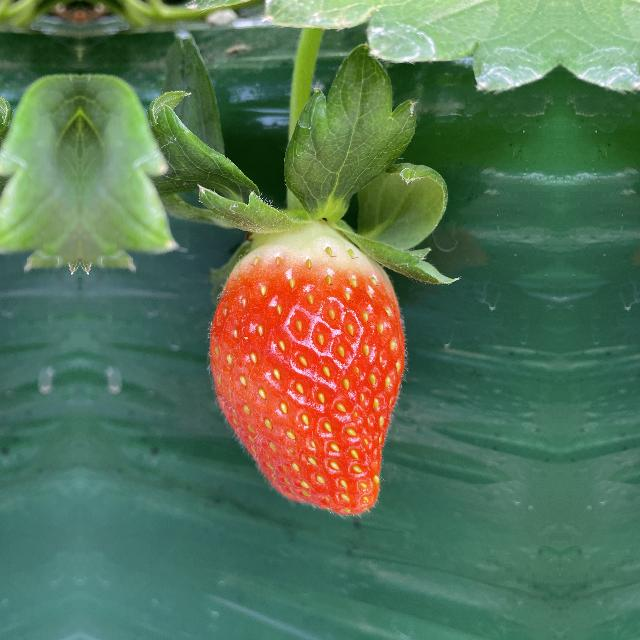Health_100: (184, 235, 422, 521)
